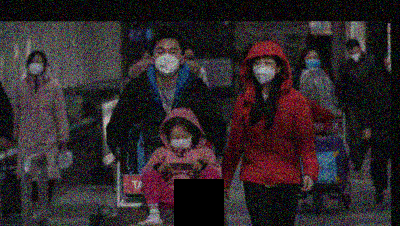with_mask: (153, 45, 183, 75), (252, 57, 278, 84), (167, 130, 193, 148), (28, 57, 46, 75), (348, 48, 362, 63), (303, 54, 320, 66)
